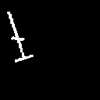double_crochet: (7, 12, 32, 61)
